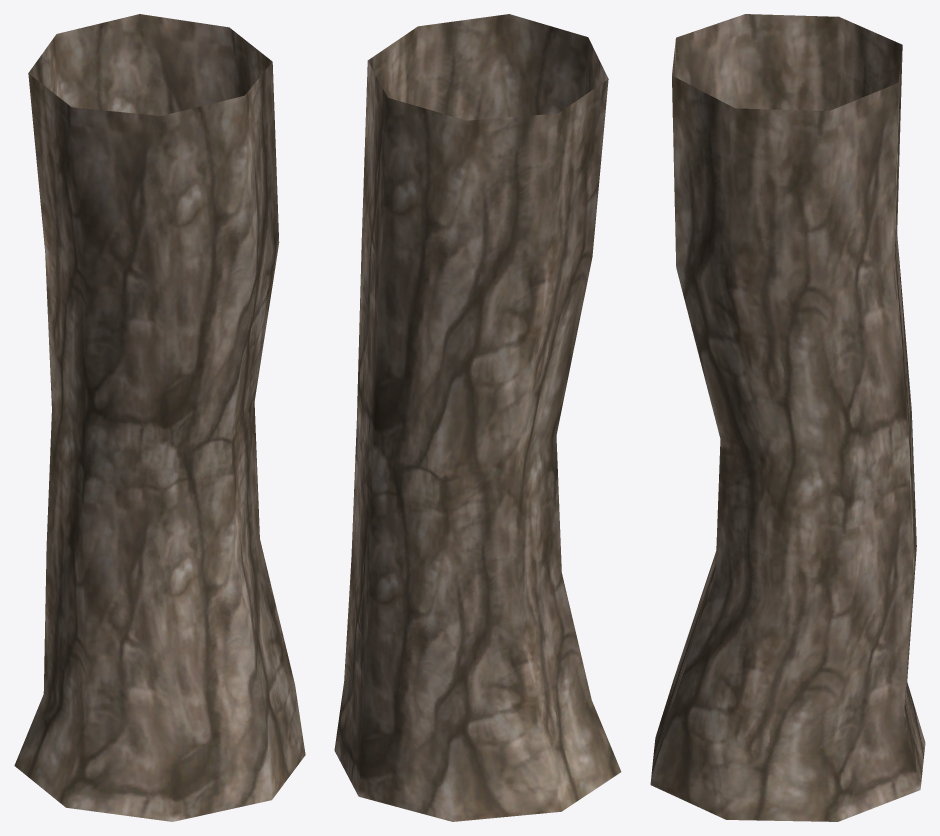
Rendered from EKH_CAVERNS_PS_CA_CYLINDER02.fbx.
The picture shows the model from 3 angles, left to right: view 1: azimuth 30°, elevation 25°; view 2: azimuth 150°, elevation 25°; view 3: azimuth 270°, elevation 25°; orthographic projection.
Visible parts, largest first — view 1: EKH_CAVERNS_PS_CA_CYLINDER02; view 2: EKH_CAVERNS_PS_CA_CYLINDER02; view 3: EKH_CAVERNS_PS_CA_CYLINDER02.
Boxes of the visible parts, bbox=[...] form: EKH_CAVERNS_PS_CA_CYLINDER02: bbox=[14, 14, 305, 821]; EKH_CAVERNS_PS_CA_CYLINDER02: bbox=[334, 14, 621, 821]; EKH_CAVERNS_PS_CA_CYLINDER02: bbox=[650, 14, 925, 821].
Bounding box in the file's own units: 37210 × 104718 × 37210.
Materials: 1 (1 with a texture image).
